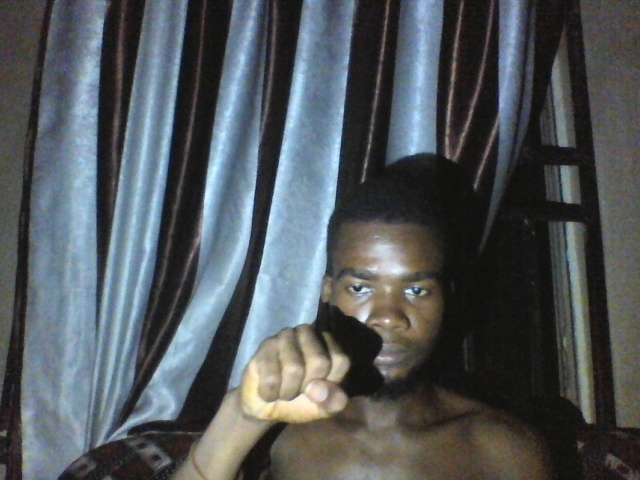yes: (228, 325, 355, 433)
